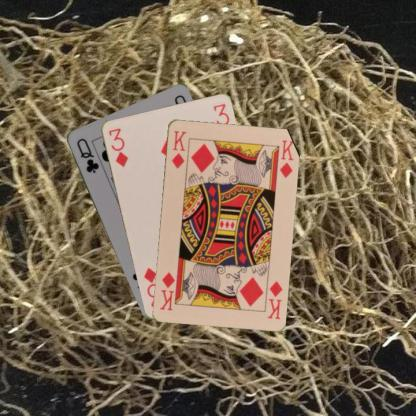3d: (105, 126, 129, 168)
Kd: (264, 278, 284, 321), (169, 128, 187, 169)
Qc: (73, 135, 100, 175)
